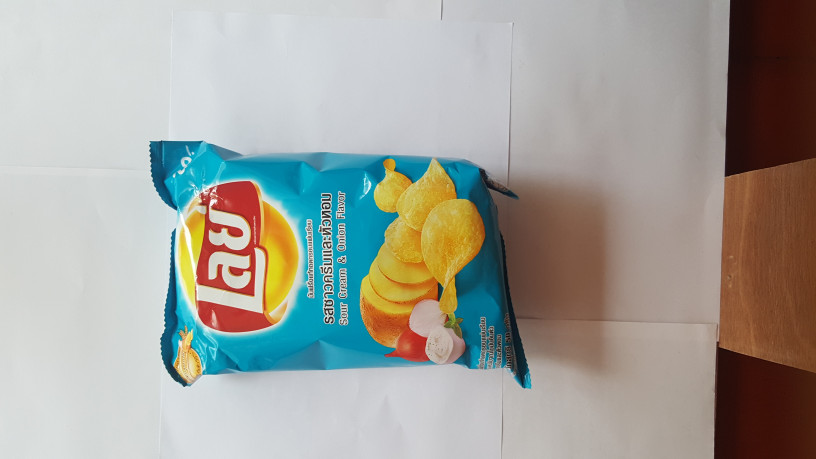lays-onion: (136, 134, 540, 406)
